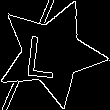L_N: (33, 26, 70, 80)
